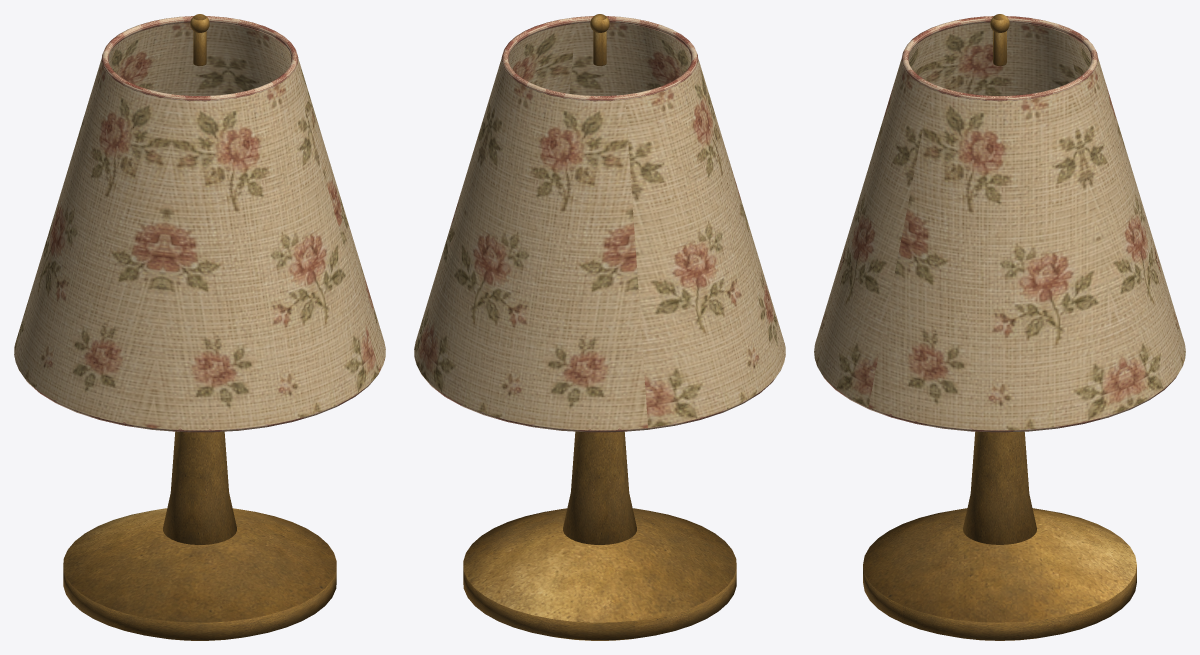
File: SM_MoleControlV2_RoseTableLamp.fbx
The picture shows the model from 3 angles, left to right: view 1: azimuth 30°, elevation 25°; view 2: azimuth 150°, elevation 25°; view 3: azimuth 270°, elevation 25°; orthographic projection.
Parts seen in each view (by area): view 1: SM_MoleControlV2_RoseTableLamp; view 2: SM_MoleControlV2_RoseTableLamp; view 3: SM_MoleControlV2_RoseTableLamp.
Part boxes in pixels (x1,y1,x2,y2): SM_MoleControlV2_RoseTableLamp: (14, 14, 385, 640); SM_MoleControlV2_RoseTableLamp: (414, 14, 785, 640); SM_MoleControlV2_RoseTableLamp: (814, 14, 1185, 640).
Size of what is drawn, in the model's own units: 38 by 38 by 65.
